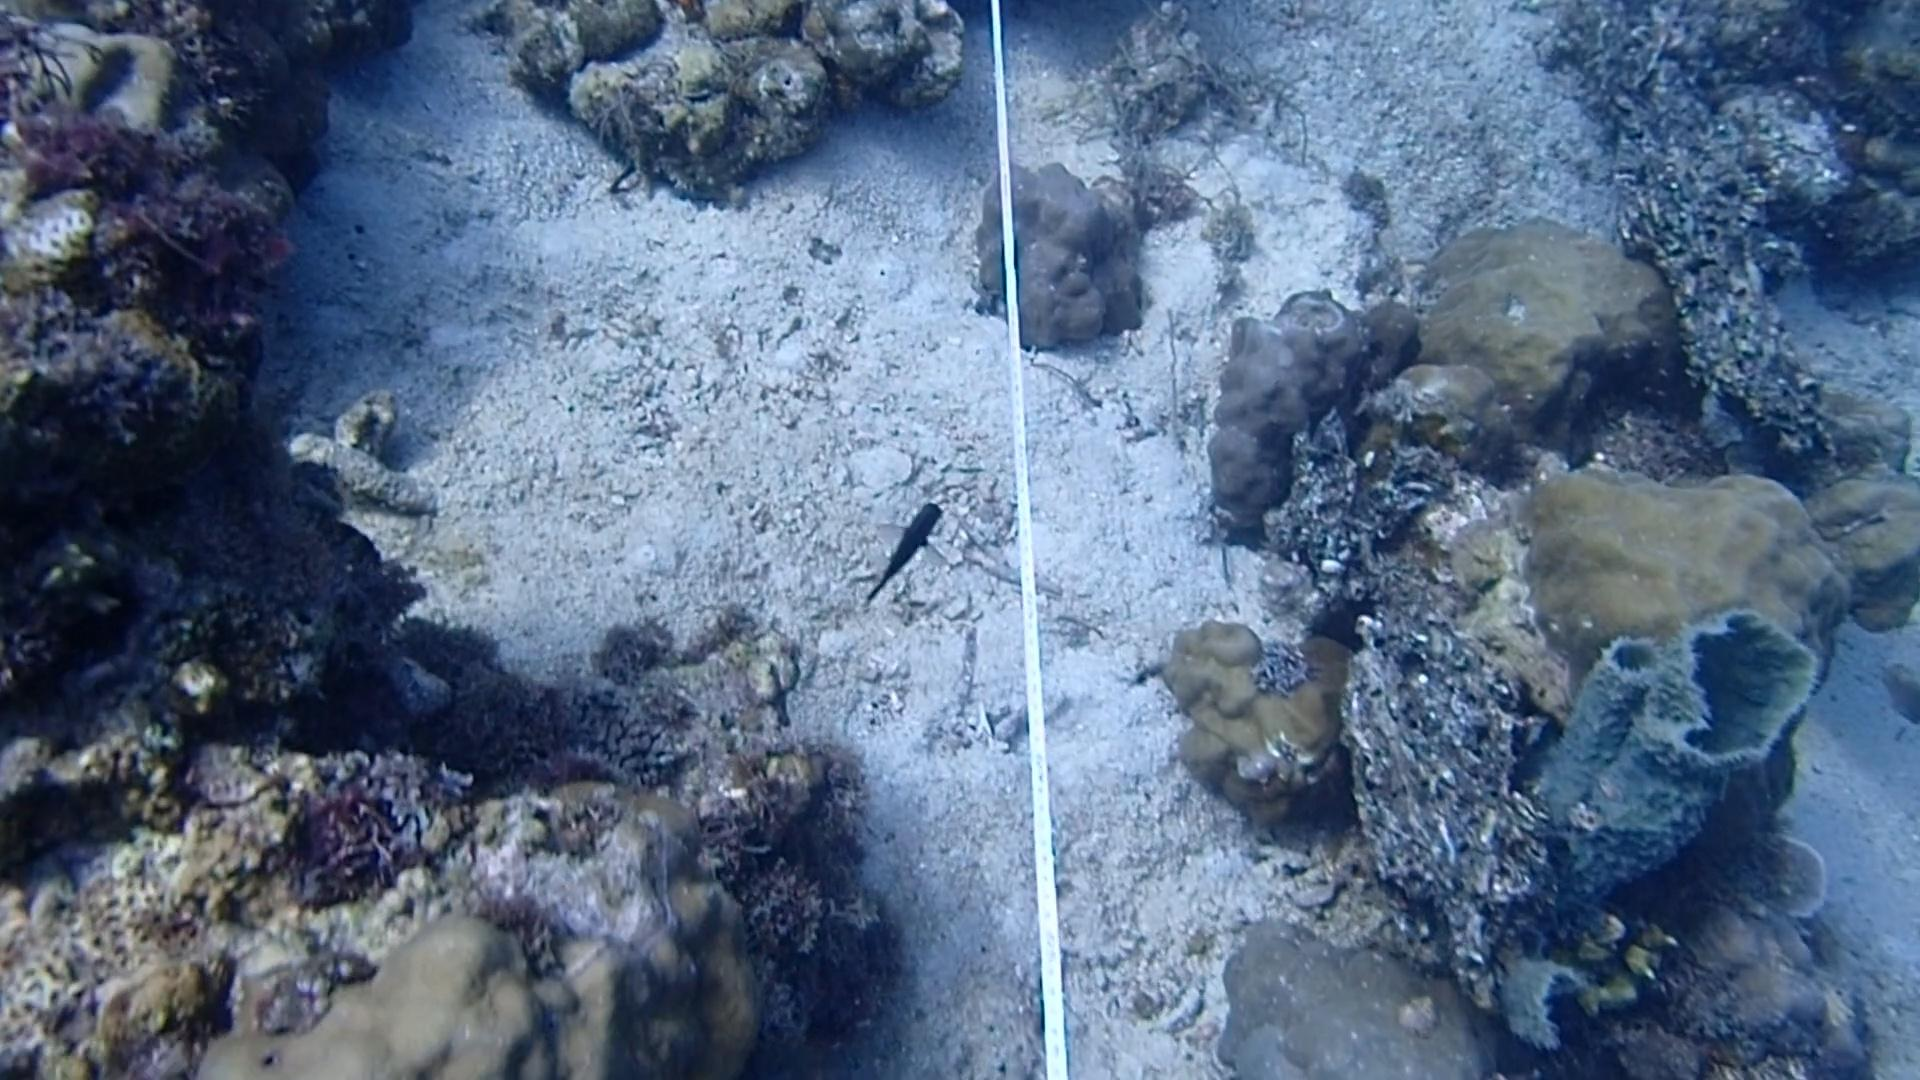Dark Fish: (841, 487, 969, 612)
